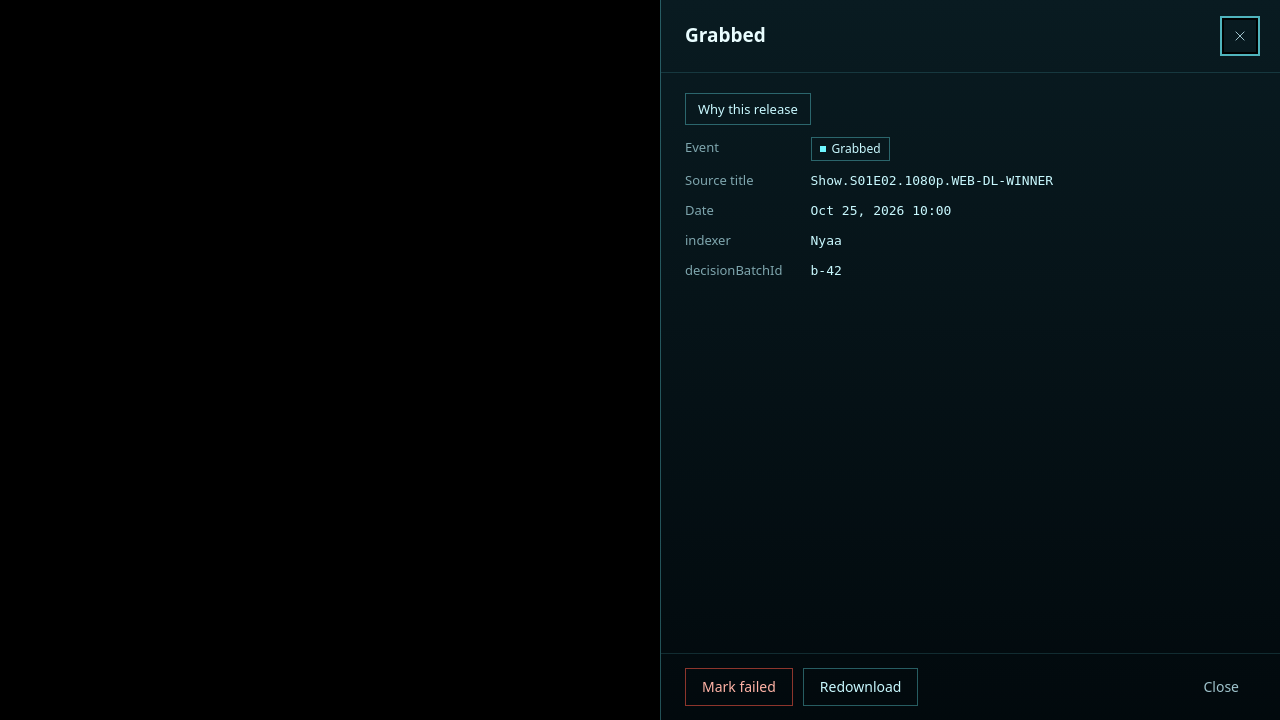
Test: History → Why this release › opens the whole batch from GET /release/decisions/:batchId
This screenshot has width=1280, height=720.
Click the button "Why this release".
click(748, 109)  # box x1=685 y1=93 x2=811 y2=125
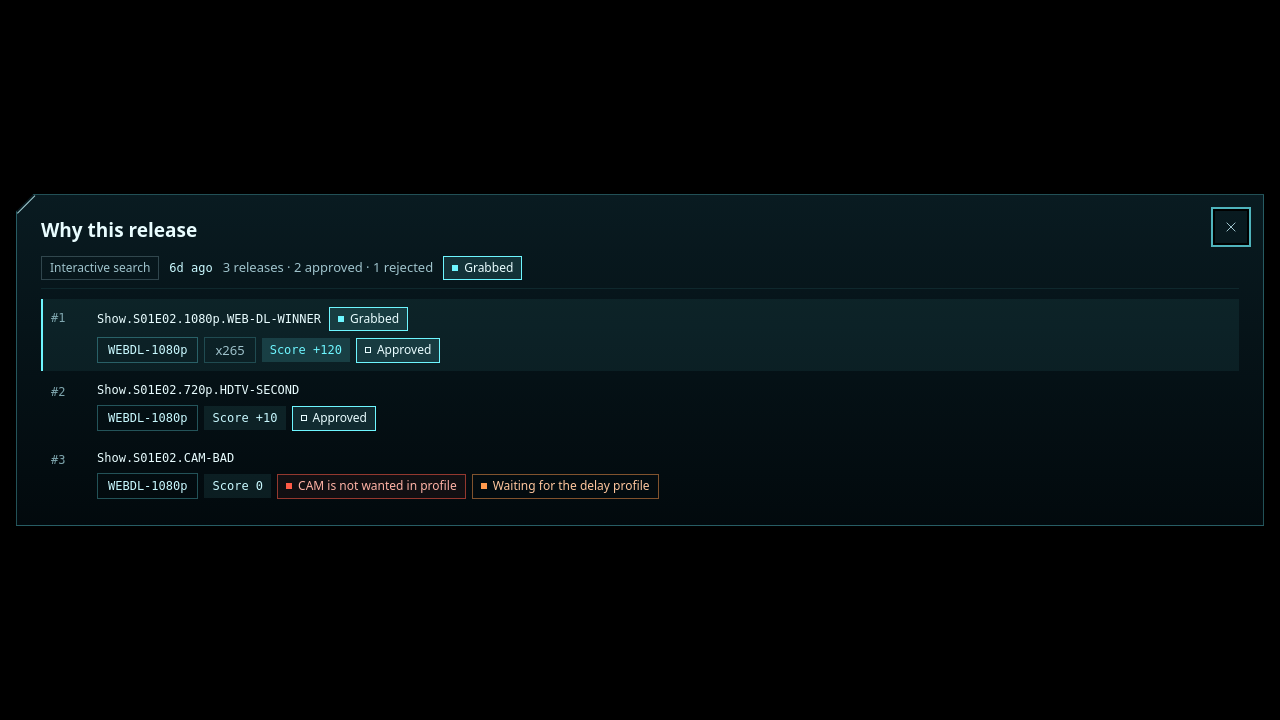
Expected: the text "Show.S01E02.1080p.WEB-DL-WINNER" is shown, x1=97 y1=310 x2=321 y2=328
Result: the text "Interactive search" is shown at x1=41 y1=256 x2=159 y2=280
